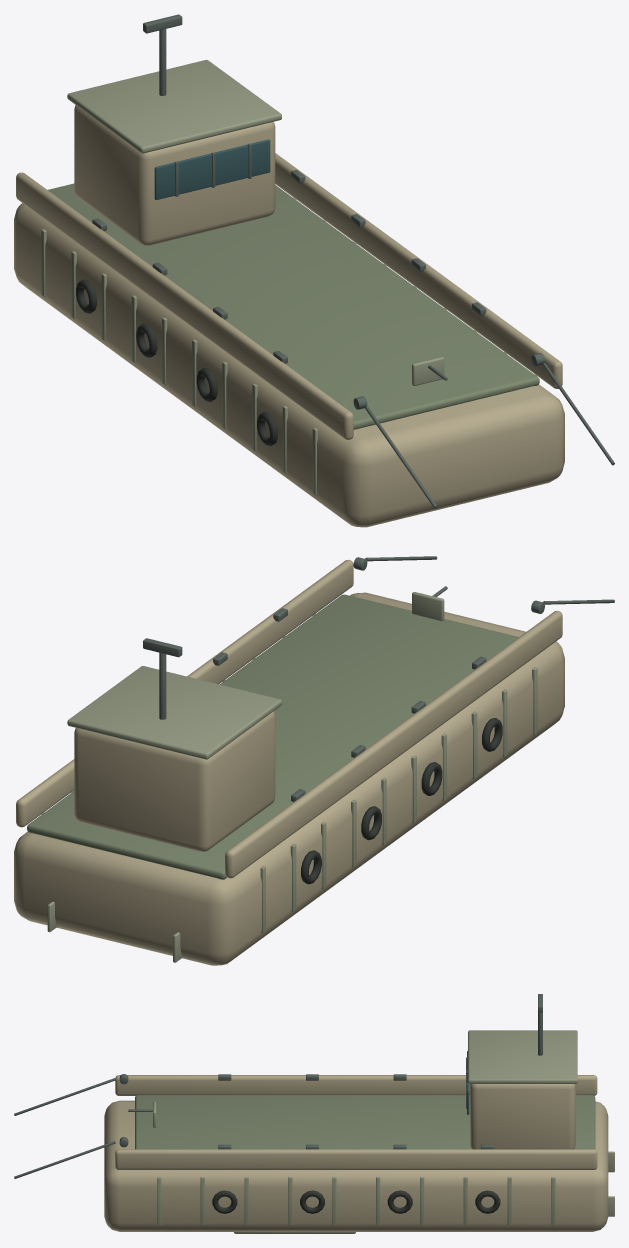
Rendered from landing_craft.glb.
3 renders of one model, top to bottom at view 1: azimuth 30°, elevation 25°; view 2: azimuth 150°, elevation 25°; view 3: azimuth 270°, elevation 25°, orthographic. The views are drawn at different scales.
Visible parts, largest first — view 1: LandingCraft_Sand_armor, Deck, LandingCraft_Armor_edge, Bridge glass, LandingCraft_Gun_steel, LandingCraft_Rubber; view 2: LandingCraft_Sand_armor, Deck, LandingCraft_Armor_edge, LandingCraft_Gun_steel, LandingCraft_Rubber; view 3: LandingCraft_Sand_armor, Deck, LandingCraft_Armor_edge, LandingCraft_Gun_steel, LandingCraft_Rubber.
Boxes of the visible parts, box(x1,y1,x2,y2) form: LandingCraft_Sand_armor: box(14, 105, 564, 527); Deck: box(48, 183, 539, 429); LandingCraft_Armor_edge: box(41, 60, 537, 495); Bridge glass: box(154, 139, 270, 199); LandingCraft_Gun_steel: box(92, 29, 614, 508); LandingCraft_Rubber: box(76, 279, 277, 445); LandingCraft_Sand_armor: box(14, 560, 564, 965); Deck: box(27, 594, 518, 879); LandingCraft_Armor_edge: box(41, 592, 537, 962); LandingCraft_Gun_steel: box(159, 556, 614, 801); LandingCraft_Rubber: box(301, 718, 502, 884); LandingCraft_Sand_armor: box(104, 1075, 608, 1231); Deck: box(135, 1095, 595, 1149); LandingCraft_Armor_edge: box(153, 1030, 614, 1233); LandingCraft_Gun_steel: box(14, 1012, 542, 1178); LandingCraft_Rubber: box(212, 1190, 500, 1213).
Bounding box in the file's own units: 4.43 × 5.09 × 13.71.
